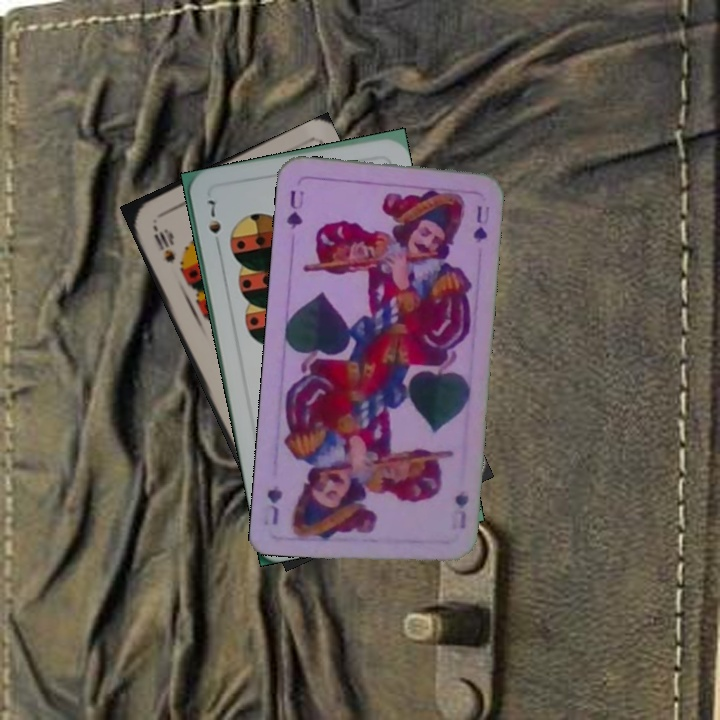GU: (446, 486, 472, 532), (282, 186, 307, 232)
S10: (148, 221, 178, 266)
S7: (203, 196, 224, 252)
